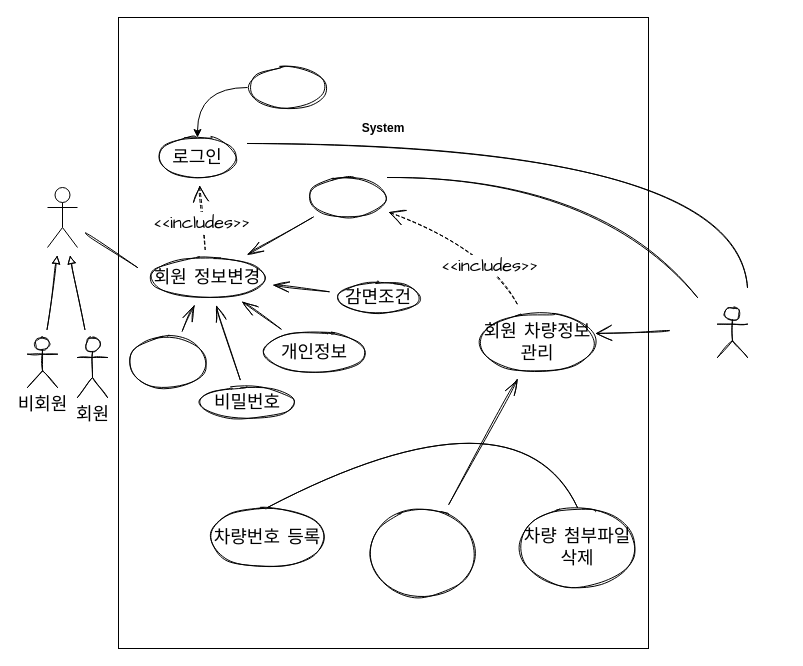
Image size: 803x666. Some labels were removed from this diagram. The shapes that lost their labels are listed below. From the top down, each one's centre as x and y in pixels, then its label:
At pixel 287 87: "회원가입".
At pixel 347 197: "차량정보".
At pixel 732 332: "대한항공 서버".
At pixel 167 362: "회원탈퇴".
At pixel 422 552: "차량 첨부파일 수정".
